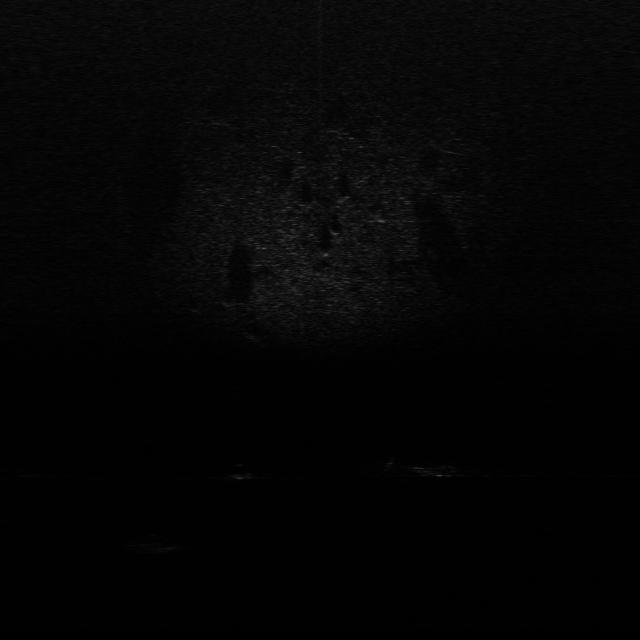ball: (230, 461, 258, 482)
circle cage: (122, 532, 184, 557)
human body: (373, 452, 472, 482)
